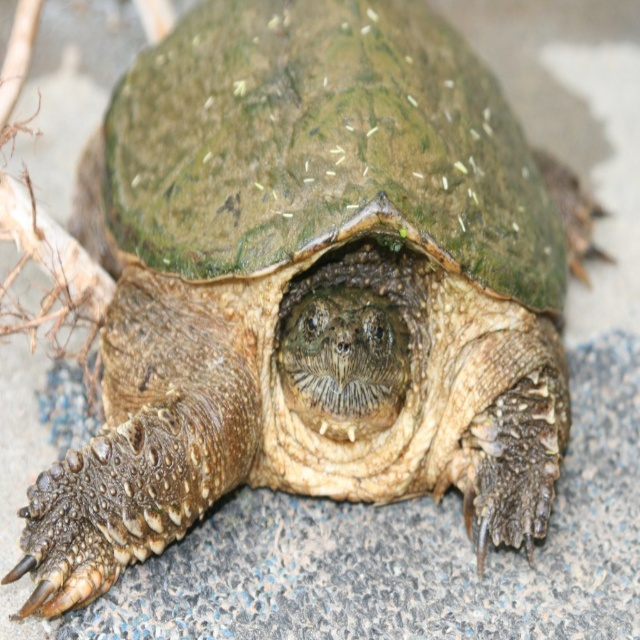Sea turtle: (0, 0, 618, 621)
